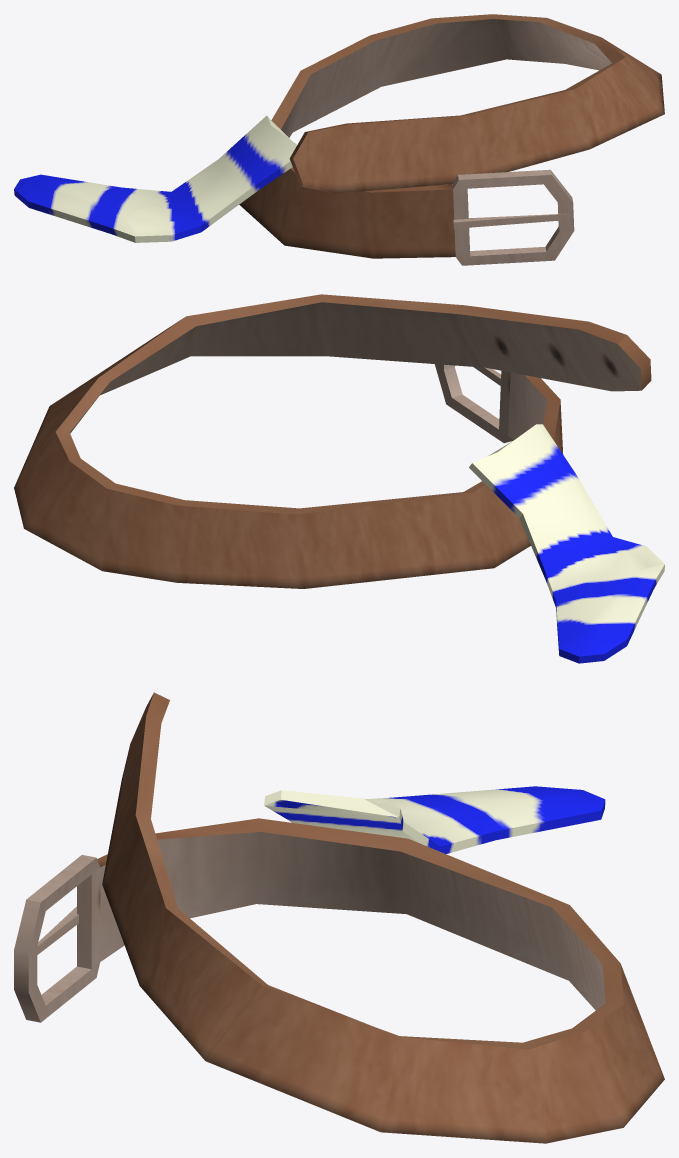
The model's file is Socks_Holster_Ground.fbx.
The picture shows the model from 3 angles, top to bottom: view 1: azimuth 30°, elevation 25°; view 2: azimuth 150°, elevation 25°; view 3: azimuth 270°, elevation 25°; orthographic projection. The views are drawn at different scales.
Visible parts, largest first — view 1: Socks_Holster_Ground; view 2: Socks_Holster_Ground; view 3: Socks_Holster_Ground.
Boxes of the visible parts, x1,y1,x2,y2 form: Socks_Holster_Ground: [14, 14, 664, 265]; Socks_Holster_Ground: [14, 294, 664, 663]; Socks_Holster_Ground: [14, 692, 664, 1143].
Bounding box in the file's own units: 0.7944 × 0.1932 × 0.5697.
